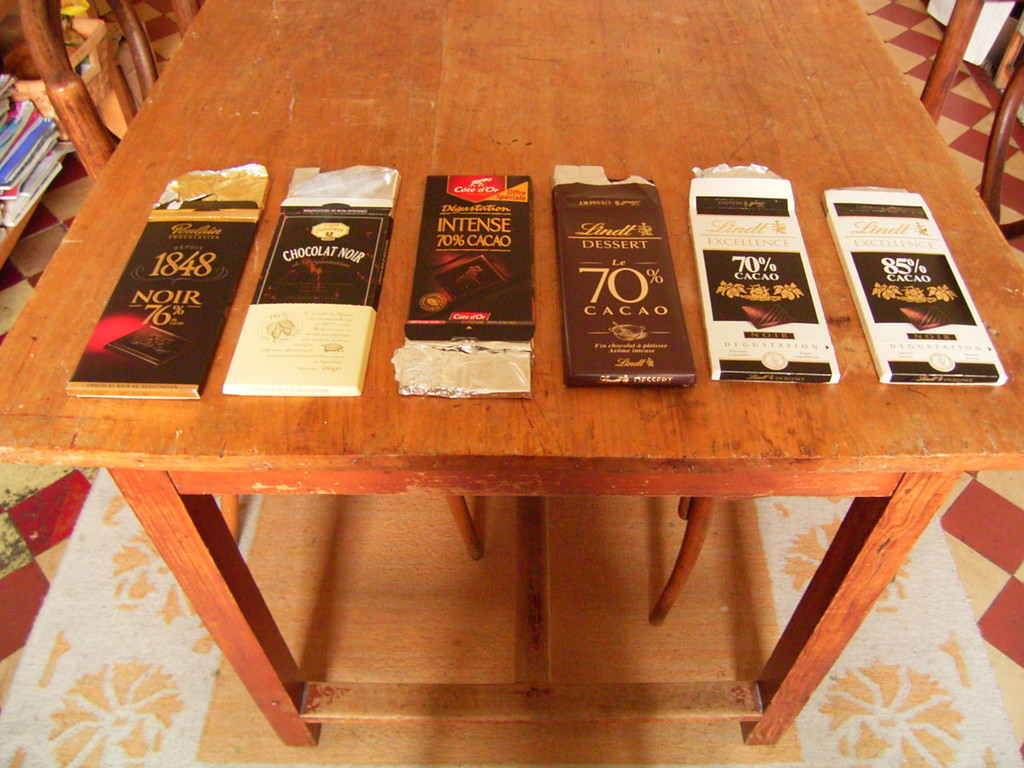Book: (0, 73, 81, 246)
